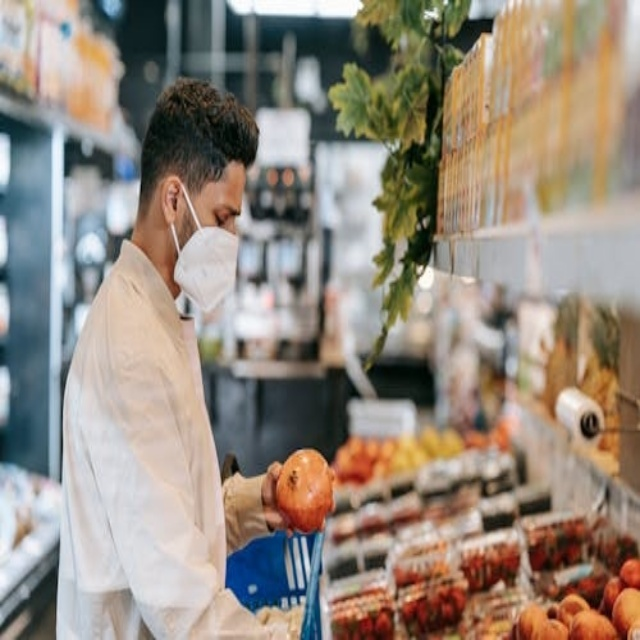Mascara: (170, 181, 240, 317)
Sin_gafas: (202, 192, 241, 233)
Sin_guantes: (260, 461, 296, 535)
